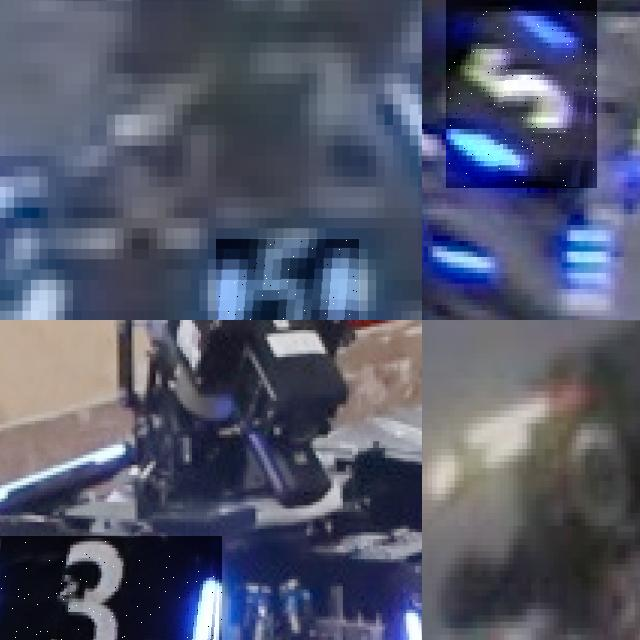B3: (0, 535, 222, 640)
B5: (446, 0, 597, 187), (216, 238, 359, 320)
